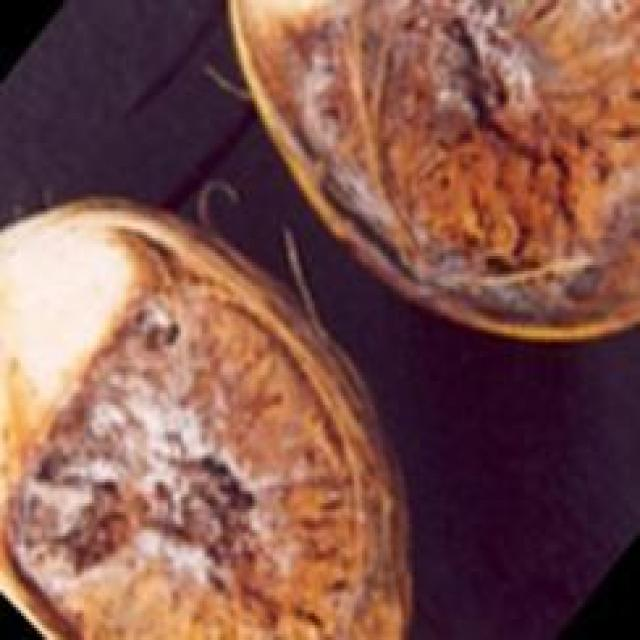damaged: (0, 196, 412, 637), (226, 0, 637, 345)
